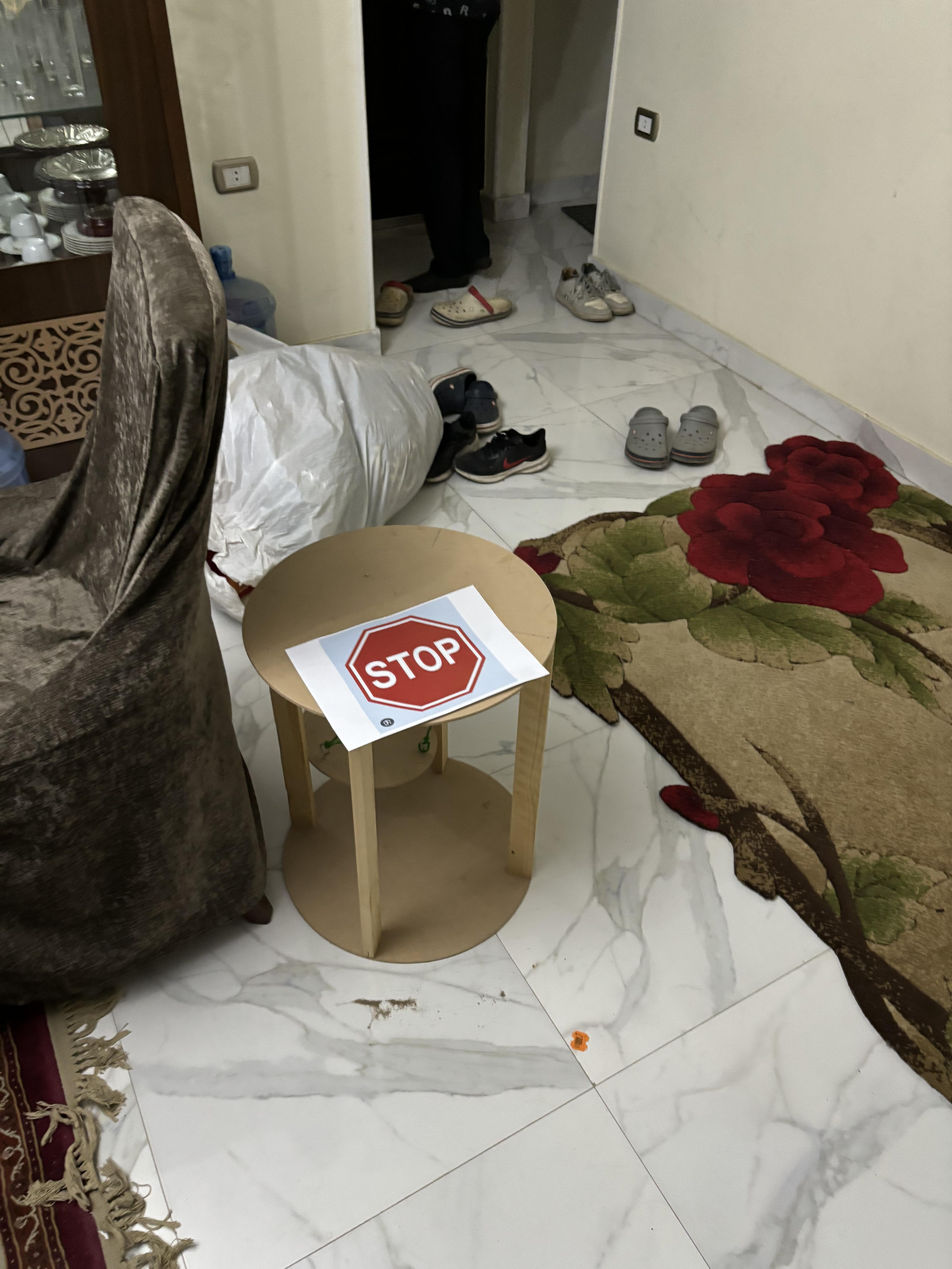Stop: (344, 612, 491, 717)
